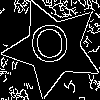O: (28, 23, 73, 74)
